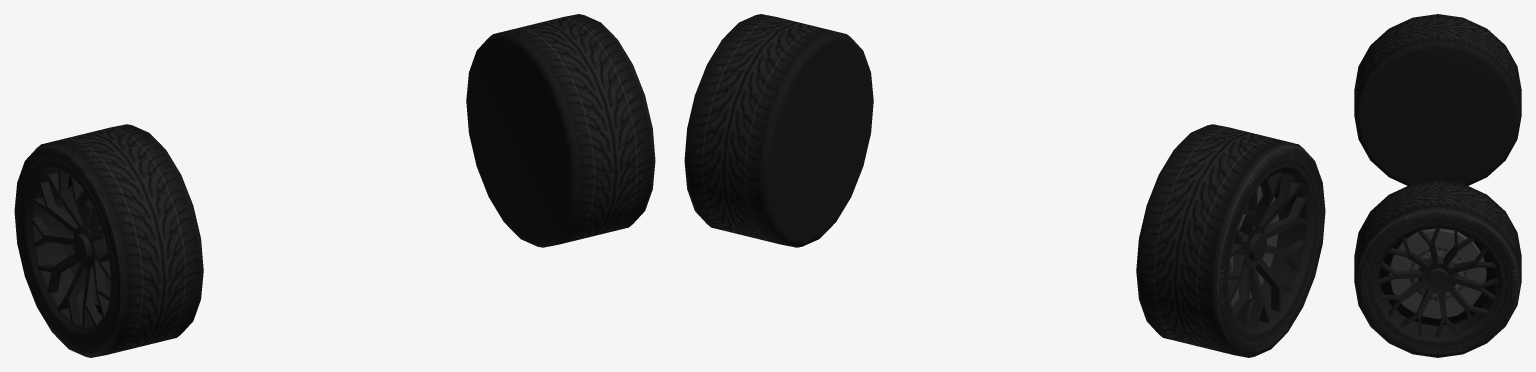
File: Lamborginhi_Aventador_wheels2.obj
3 views of the same model, side by side, from view 1: azimuth 30°, elevation 25°; view 2: azimuth 150°, elevation 25°; view 3: azimuth 270°, elevation 25° (orthographic). The views are drawn at different scales.
Parts seen in each view (by area): view 1: Lamborghini_Aventador:Wheel_RR.001; view 2: Lamborghini_Aventador:Wheel_RR.001; view 3: Lamborghini_Aventador:Wheel_RR.001.
Boxes of the visible parts, x1,y1,x2,y2 form: Lamborghini_Aventador:Wheel_RR.001: (14, 14, 655, 357); Lamborghini_Aventador:Wheel_RR.001: (684, 14, 1325, 357); Lamborghini_Aventador:Wheel_RR.001: (1354, 14, 1521, 357).
Bounding box in the file's own units: 2.22 × 0.794 × 0.794.
1 material, 1 textured.
